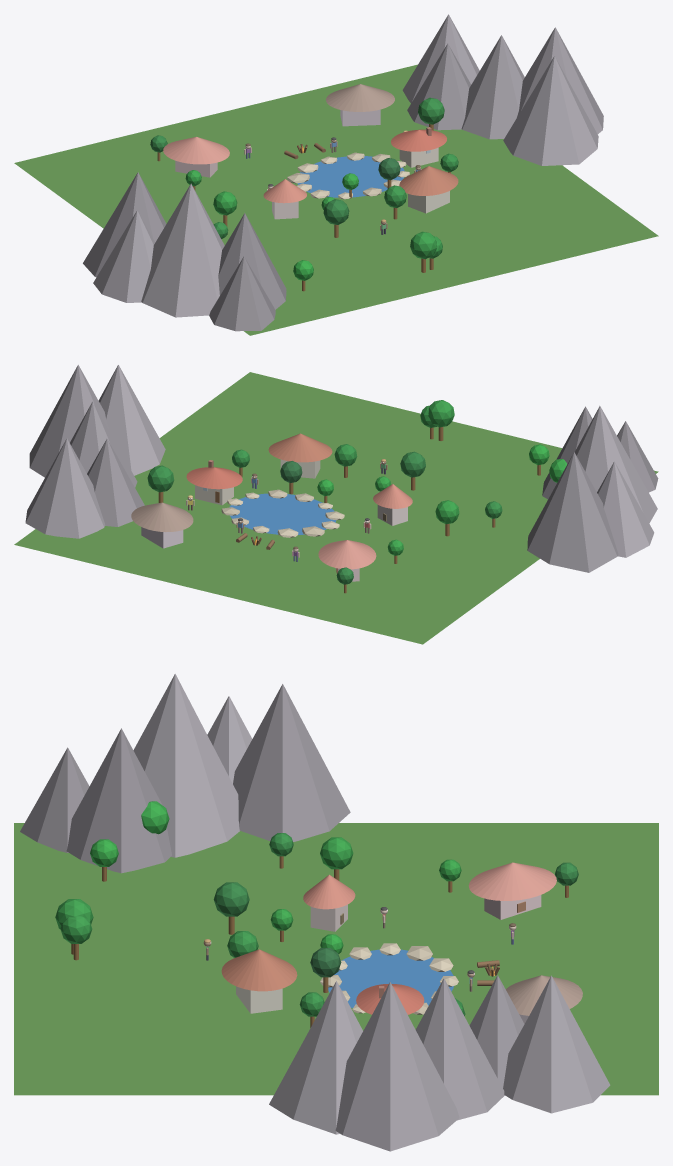
The model's file is cozy_village_scene_with_lake_houses__campfire.glb.
3 views of the same model, one above another, from view 1: azimuth 30°, elevation 25°; view 2: azimuth 150°, elevation 25°; view 3: azimuth 270°, elevation 25° (orthographic). The views are drawn at different scales.
Parts seen in each view (by area): view 1: Ground_0, Mountain_0_31, Mountain_9_40, Mountain_5_36, Mountain_2_33, Mountain_3_34, Mountain_6_37, Mountain_4_35, Mountain_1_32, Mountain_7_38, Lake_41, Mountain_8_39 (+11 smaller); view 2: Ground_0, Mountain_4_35, Mountain_8_39, Mountain_9_40, Mountain_0_31, Mountain_7_38, Mountain_2_33, Mountain_6_37, Lake_41, Mountain_5_36, House_3_Roof_70, House_2_Roof_67 (+12 smaller); view 3: Ground_0, Mountain_7_38, Mountain_4_35, Mountain_0_31, Mountain_8_39, Mountain_1_32, Mountain_9_40, Mountain_5_36, Mountain_3_34, Lake_41, Mountain_6_37, House_2_Roof_67 (+13 smaller).
Part boxes in pixels (x1,y1,x2,y2): Ground_0: (14, 64, 658, 335); Mountain_0_31: (141, 183, 224, 317); Mountain_9_40: (503, 56, 598, 165); Mountain_5_36: (461, 35, 524, 139); Mountain_2_33: (93, 210, 155, 302); Mountain_3_34: (209, 256, 275, 331); Mountain_6_37: (407, 43, 471, 130); Mountain_4_35: (83, 172, 166, 277); Mountain_1_32: (218, 213, 286, 309); Mountain_7_38: (517, 27, 603, 134); Lake_41: (297, 156, 404, 197); Mountain_8_39: (402, 14, 479, 103); Ground_0: (14, 372, 658, 644); Mountain_4_35: (527, 452, 618, 572); Mountain_8_39: (25, 438, 105, 538); Mountain_9_40: (98, 365, 165, 475); Mountain_0_31: (574, 406, 657, 523); Mountain_7_38: (29, 365, 109, 477); Mountain_2_33: (597, 461, 654, 557); Mountain_6_37: (87, 438, 144, 526); Lake_41: (229, 493, 336, 534); Mountain_5_36: (70, 401, 137, 487); House_3_Roof_70: (131, 502, 193, 532); House_2_Roof_67: (318, 540, 376, 569); Ground_0: (14, 823, 658, 1095); Mountain_7_38: (335, 982, 459, 1151); Mountain_4_35: (233, 684, 350, 841); Mountain_0_31: (133, 674, 239, 857); Mountain_8_39: (503, 975, 610, 1113); Mountain_1_32: (66, 728, 171, 873); Mountain_9_40: (269, 981, 362, 1134); Mountain_5_36: (415, 978, 504, 1120); Mountain_3_34: (20, 747, 89, 852); Lake_41: (328, 949, 453, 1008); Mountain_6_37: (469, 975, 524, 1087); House_2_Roof_67: (468, 862, 556, 900).
Size of the model in its own units: 82.31 by 15.93 by 60.
